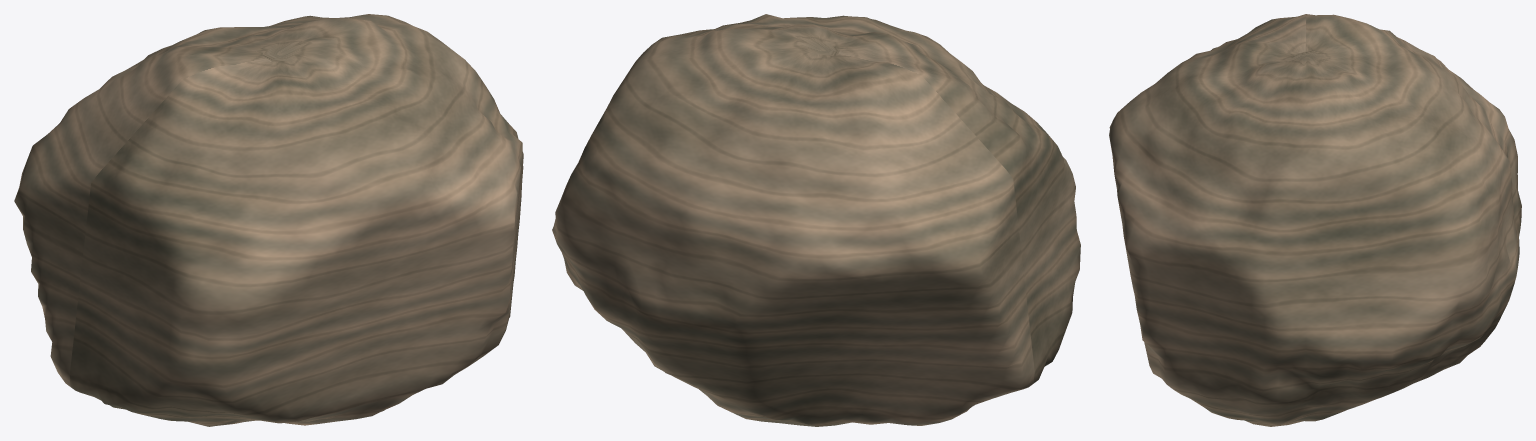
File: PZ_R08_Massive_Moss_Boulder_Sediment.glb
3 views of the same model, side by side, from view 1: azimuth 30°, elevation 25°; view 2: azimuth 150°, elevation 25°; view 3: azimuth 270°, elevation 25° (orthographic). The views are drawn at different scales.
Parts seen in each view (by area): view 1: RENDER_R08_Massive_Moss_Boulder_Sediment; view 2: RENDER_R08_Massive_Moss_Boulder_Sediment; view 3: RENDER_R08_Massive_Moss_Boulder_Sediment.
Part boxes in pixels (box(x1,y1,x2,y2)): RENDER_R08_Massive_Moss_Boulder_Sediment: box(14, 14, 523, 426); RENDER_R08_Massive_Moss_Boulder_Sediment: box(552, 14, 1080, 426); RENDER_R08_Massive_Moss_Boulder_Sediment: box(1109, 14, 1521, 426).
Size of the model in its own units: 3 by 2.16 by 2.55.
Materials: 1 (1 with a texture image).
